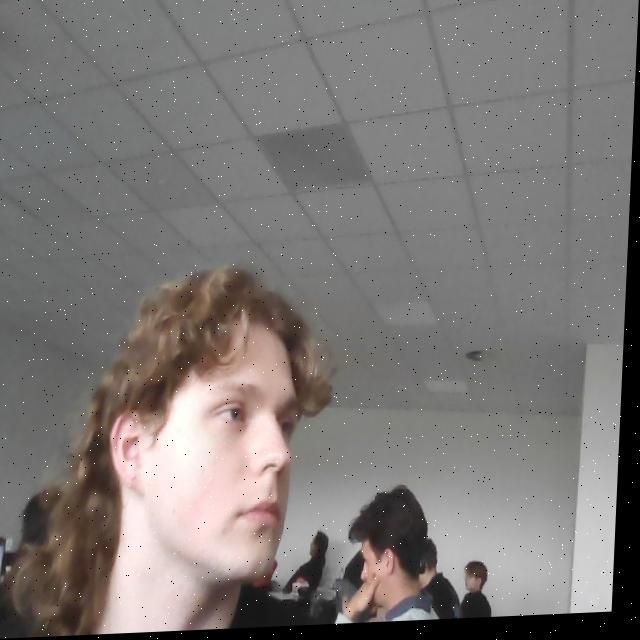opened_eye: (208, 394, 262, 434), (276, 410, 296, 441)
